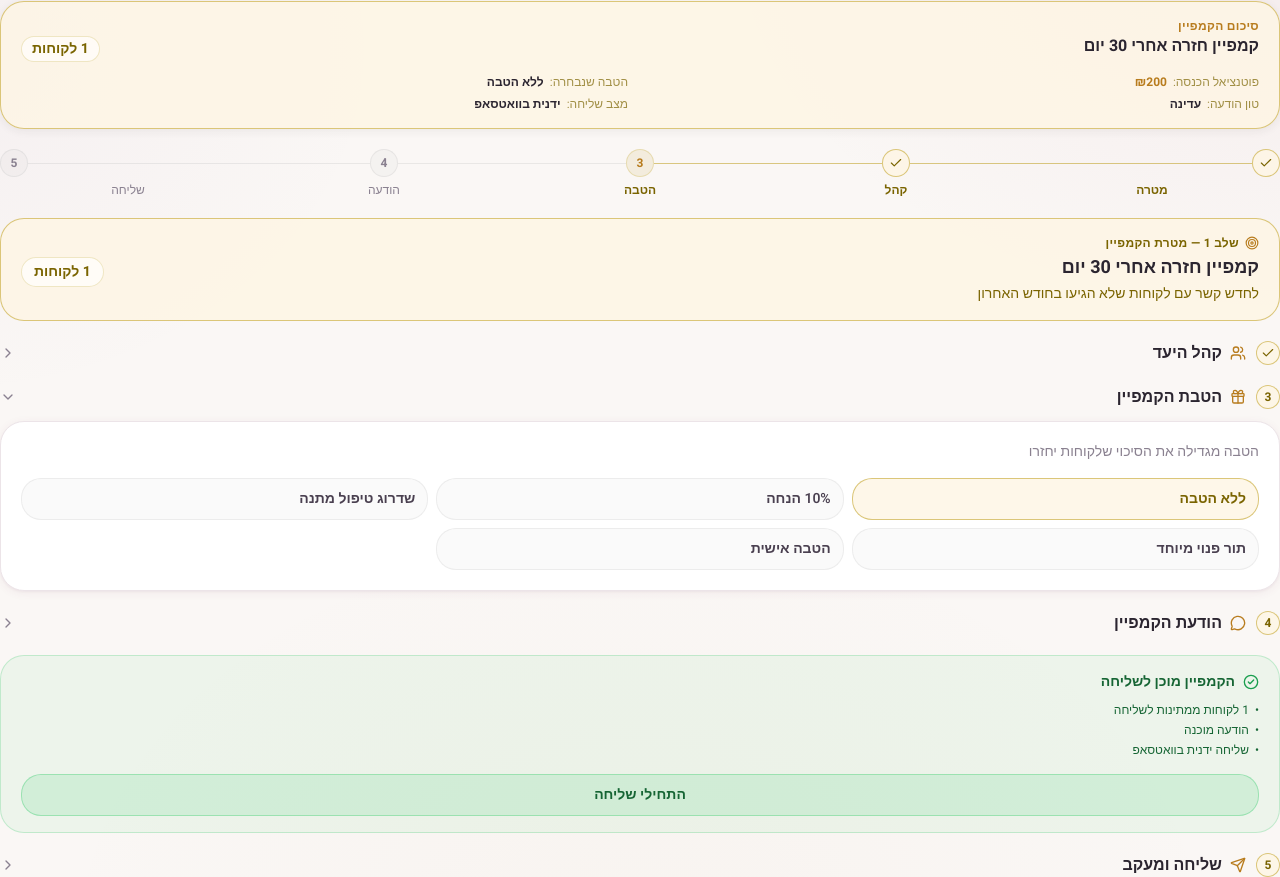
Test: CampaignView — send & tracking › opening WhatsApp reveals the 'סמני כנשלחה' action, which moves the row to 'sent'
The width and height of the screenshot is (1280, 877).
(page scrolled)
Click the button "5 שליחה ומעקב" at (1172, 864), box top-left (0, 852), bottom-right (1279, 876)
(page scrolled)
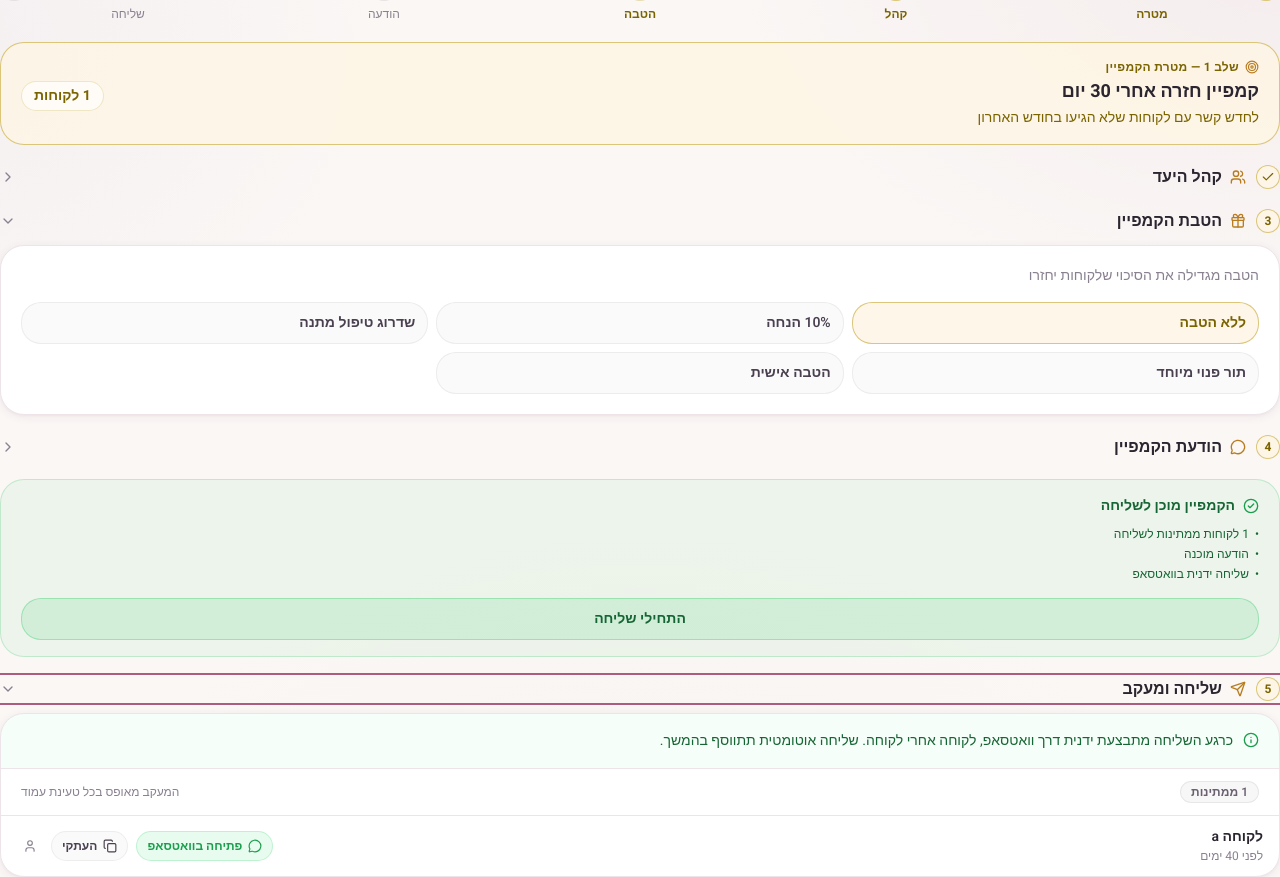
Expected: the button "סמני כנשלחה" is not shown
Click the link "פתיחה בוואטסאפ" at (205, 846), box top-left (136, 831), bottom-right (274, 861)
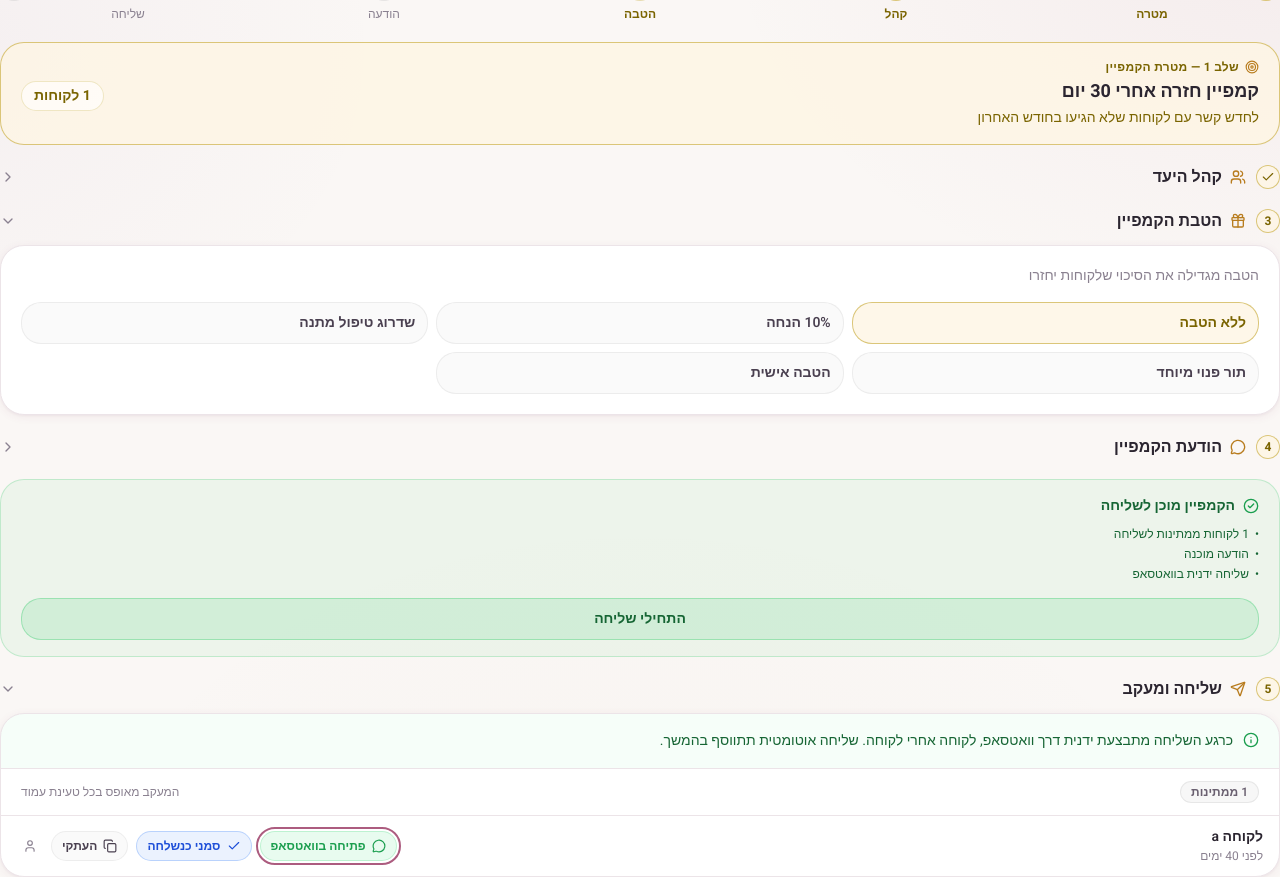
Click the button "סמני כנשלחה" at (194, 846), box top-left (136, 831), bottom-right (252, 861)
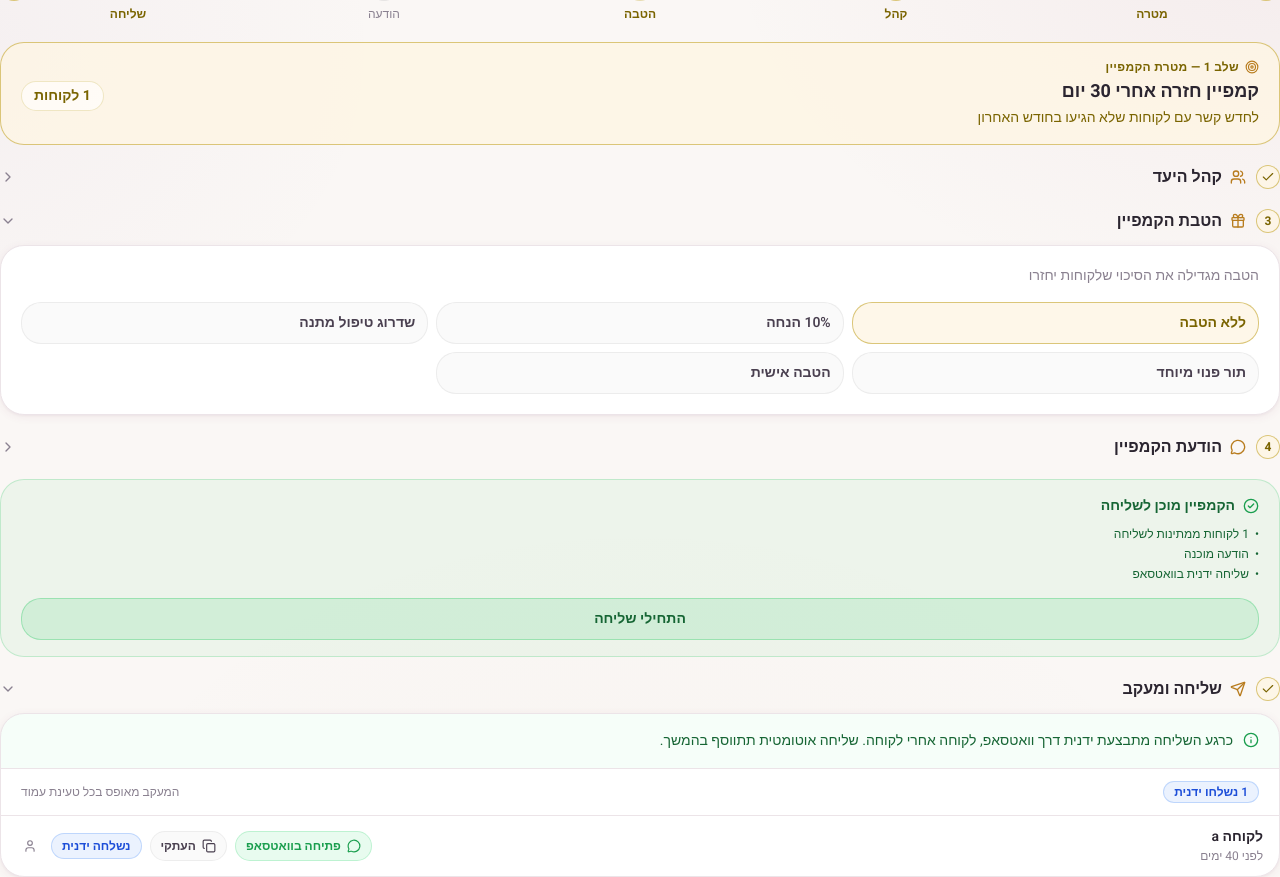
Now the button "נשלחה ידנית" is shown, box top-left (51, 833), bottom-right (142, 859)
